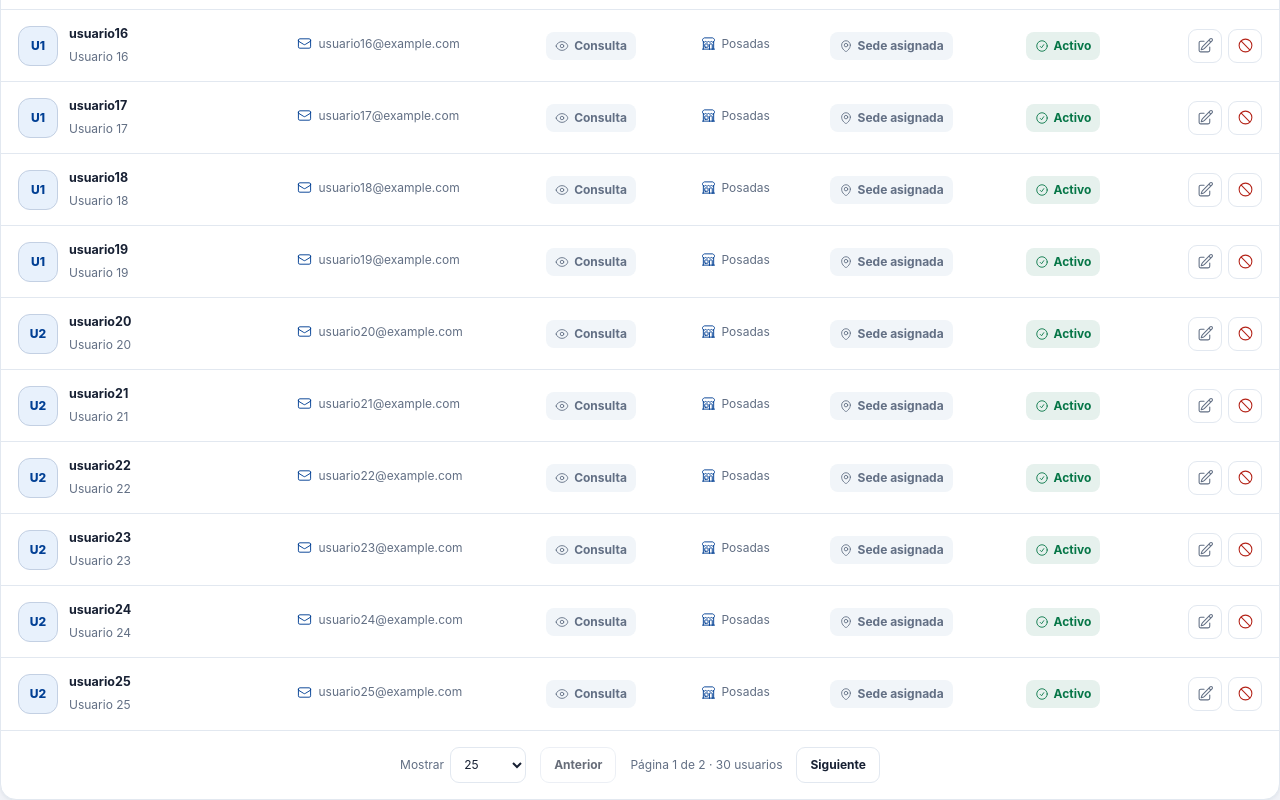
Test case: paginacion de catalogos › limita Usuarios a 25 registros y conserva el contador total
(page scrolled)
What coordinates should you click on to do the following:
click the button "Siguiente"
I would click on:
 (838, 764)
Its box is 796,746 -> 880,782.
(page scrolled)
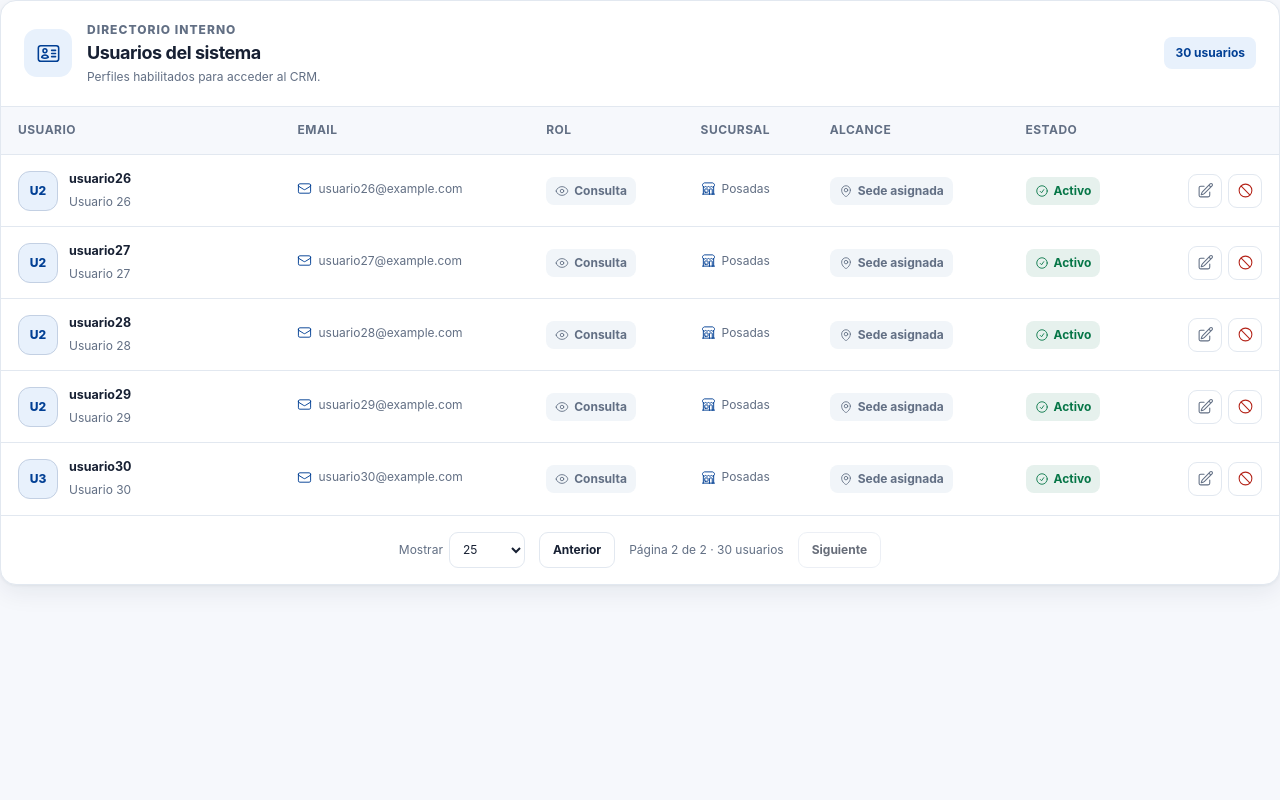
Expected: the navigation bar with class "catalog-pagination" shows "Página 2 de 2", 629,542 -> 784,556
